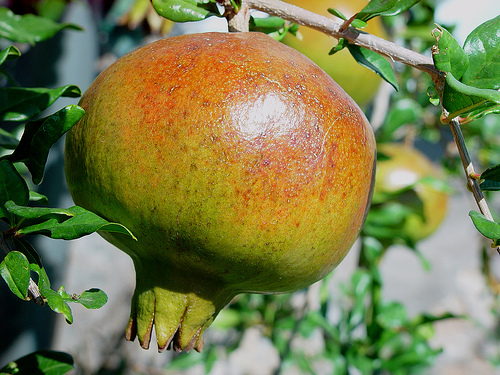pomogranate: (62, 31, 377, 355), (362, 142, 448, 239)
